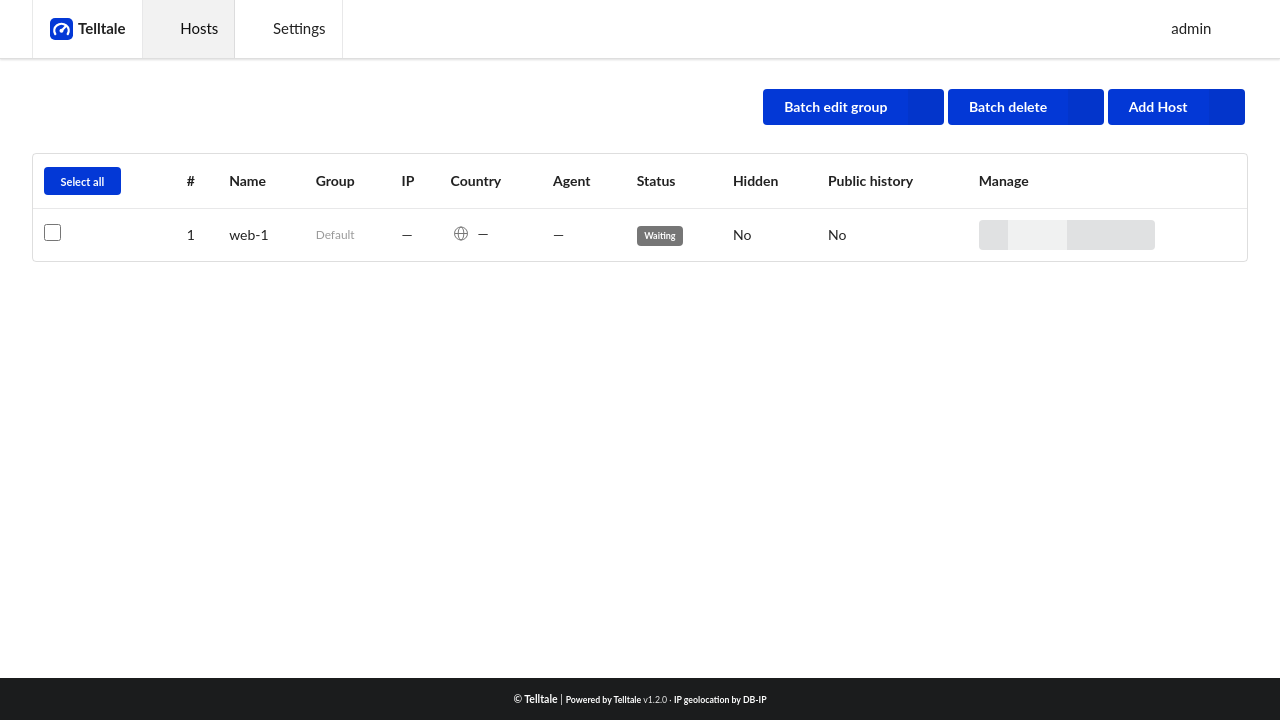
admin panel › shows the Dashboard’s reason when it rejects an edit
Click the button named "Edit web-1": (1082, 235) [1067,220,1096,250]
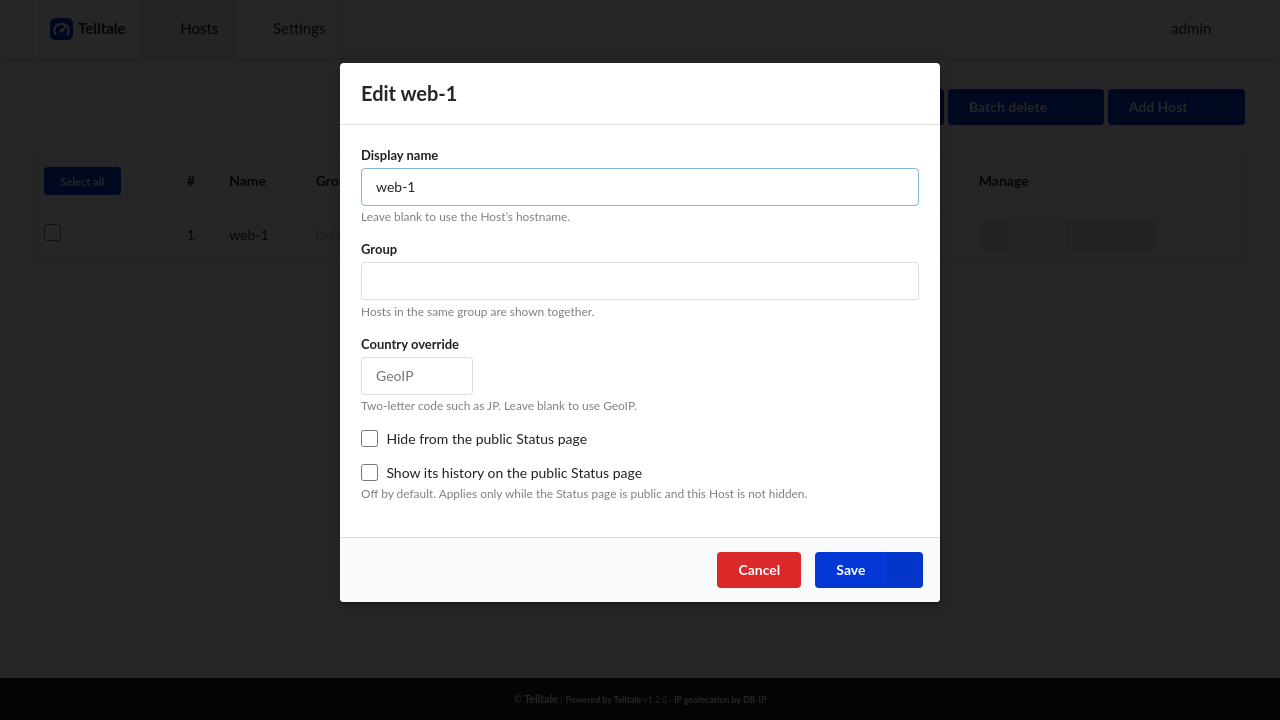
In the field labelled "Country override": (417, 376) [361,357,473,395], type "1"
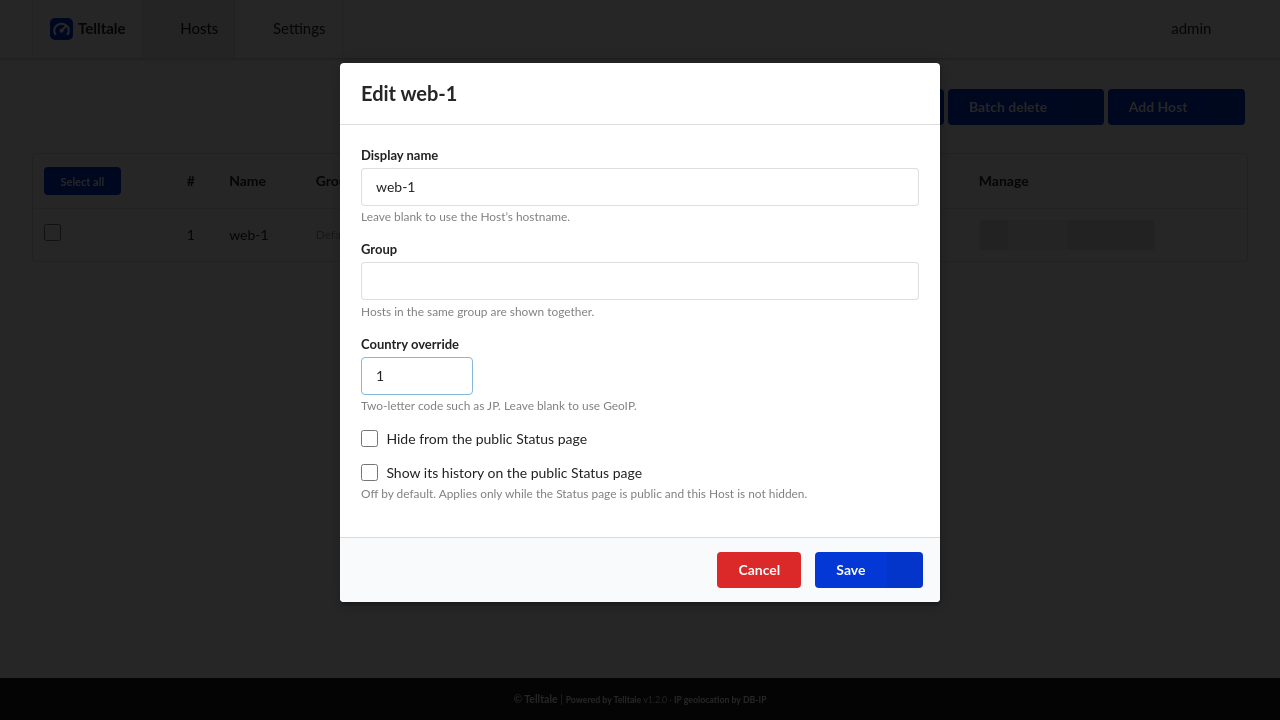
Click the button "Save": (869, 570) [815,552,922,588]
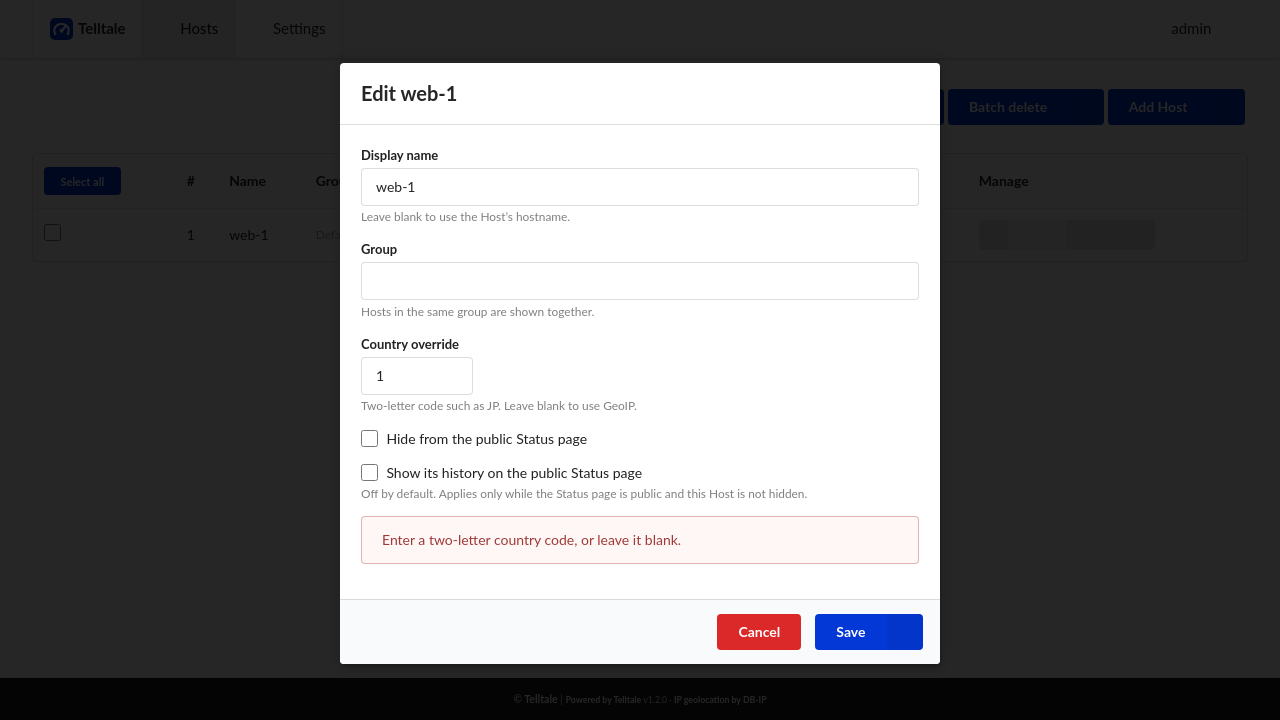
Expected: the message reads "Enter a two-letter country code, or leave it blank.", [382,531,681,548]
